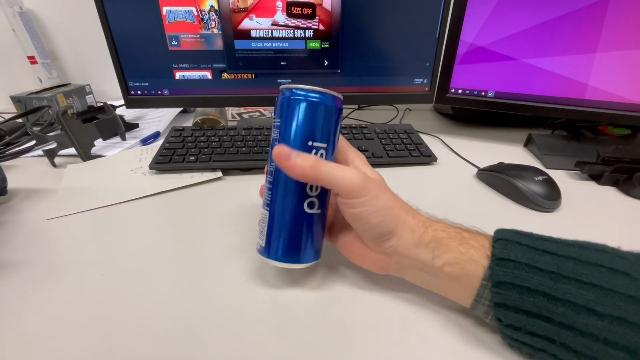Pepsi: (254, 80, 346, 272)
